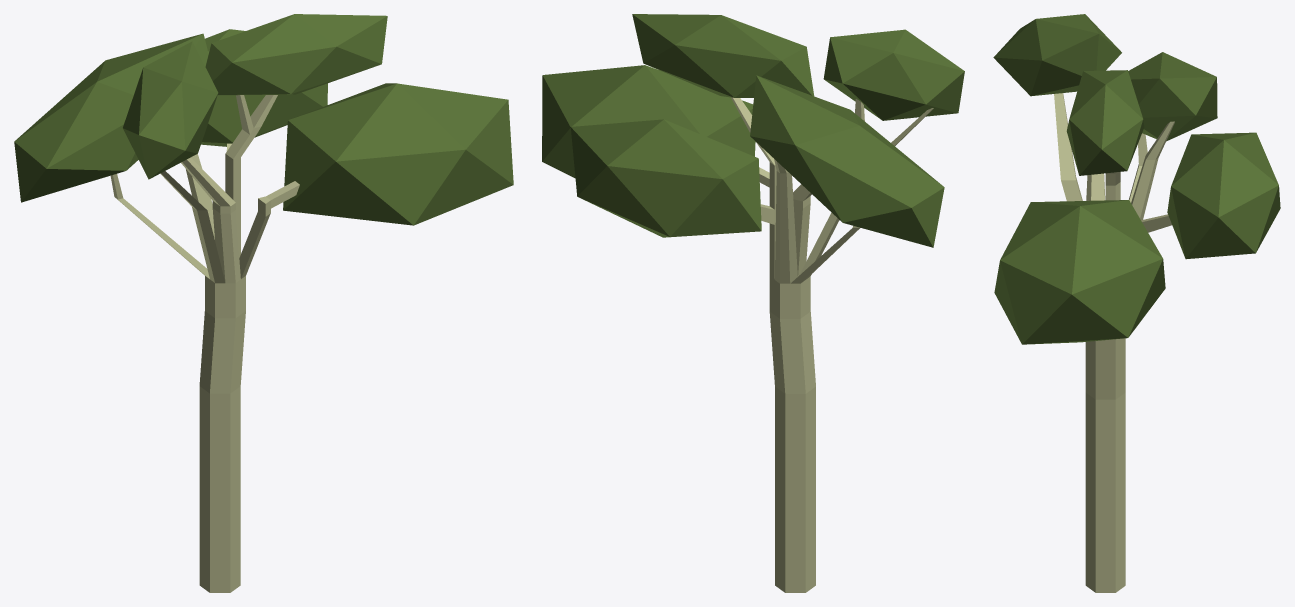
The model's file is トワラン.fbx.
3 renders of one model, left to right at view 1: azimuth 30°, elevation 25°; view 2: azimuth 150°, elevation 25°; view 3: azimuth 270°, elevation 25°, orthographic. The views are drawn at different scales.
Parts seen in each view (by area): view 1: ICO球.001, 円柱, ICO球.006, ICO球, ICO球.002, ICO球.003; view 2: 円柱, ICO球.003, ICO球.006, ICO球.001, ICO球, ICO球.002; view 3: ICO球.001, 円柱, ICO球.003, ICO球.002, ICO球, ICO球.006.
Part boxes in pixels (x1,y1,x2,y2): ICO球.001: (283, 83, 513, 225); 円柱: (110, 95, 299, 592); ICO球.006: (14, 33, 208, 202); ICO球: (205, 14, 387, 95); ICO球.002: (123, 41, 218, 179); ICO球.003: (201, 29, 327, 146); 円柱: (731, 97, 933, 592); ICO球.003: (570, 119, 761, 237); ICO球.006: (750, 75, 944, 247); ICO球.001: (542, 65, 755, 178); ICO球: (632, 14, 814, 97); ICO球.002: (823, 29, 964, 120); ICO球.001: (994, 200, 1165, 344); 円柱: (1054, 93, 1174, 592); ICO球.003: (1167, 132, 1280, 259); ICO球.002: (993, 14, 1121, 96); ICO球: (1066, 70, 1144, 175); ICO球.006: (1128, 52, 1217, 141).
Size of the model in its own units: 2268 by 2732 by 1324.
